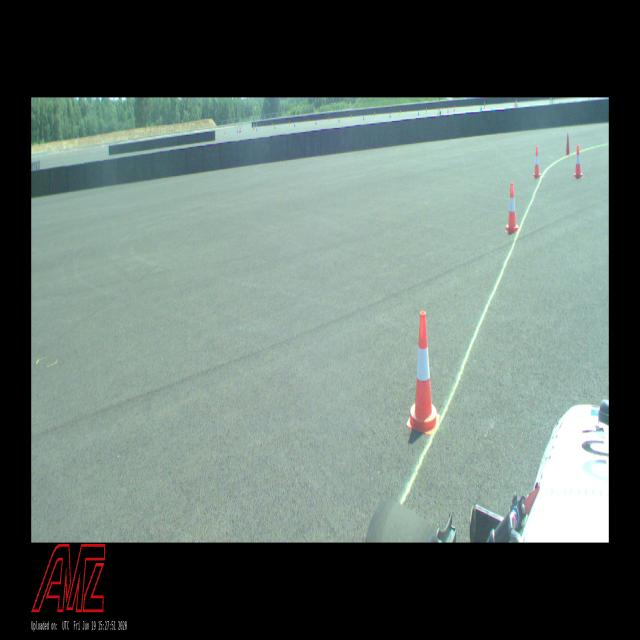orange_cone: (406, 311, 440, 436), (506, 184, 518, 232), (574, 144, 582, 178), (533, 146, 541, 177)
unknown_cone: (565, 133, 570, 156)
